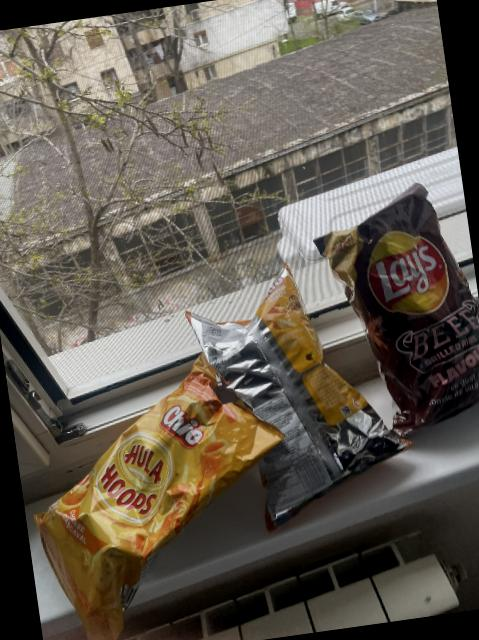Chio Cascaval 125g: (191, 274, 401, 536)
Chio Hula Hoops Cheese 70g: (14, 335, 320, 640)
Lays Beef Grilled Ribs 125g: (313, 183, 479, 440)
